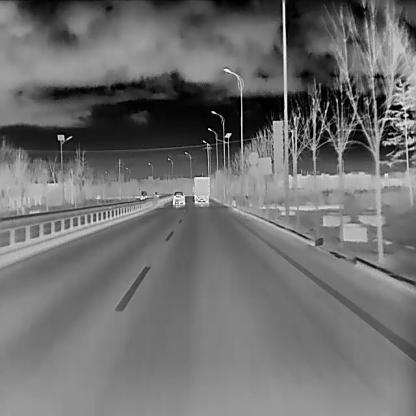car: (172, 190, 186, 205)
truck: (192, 176, 210, 204), (139, 190, 147, 200)
